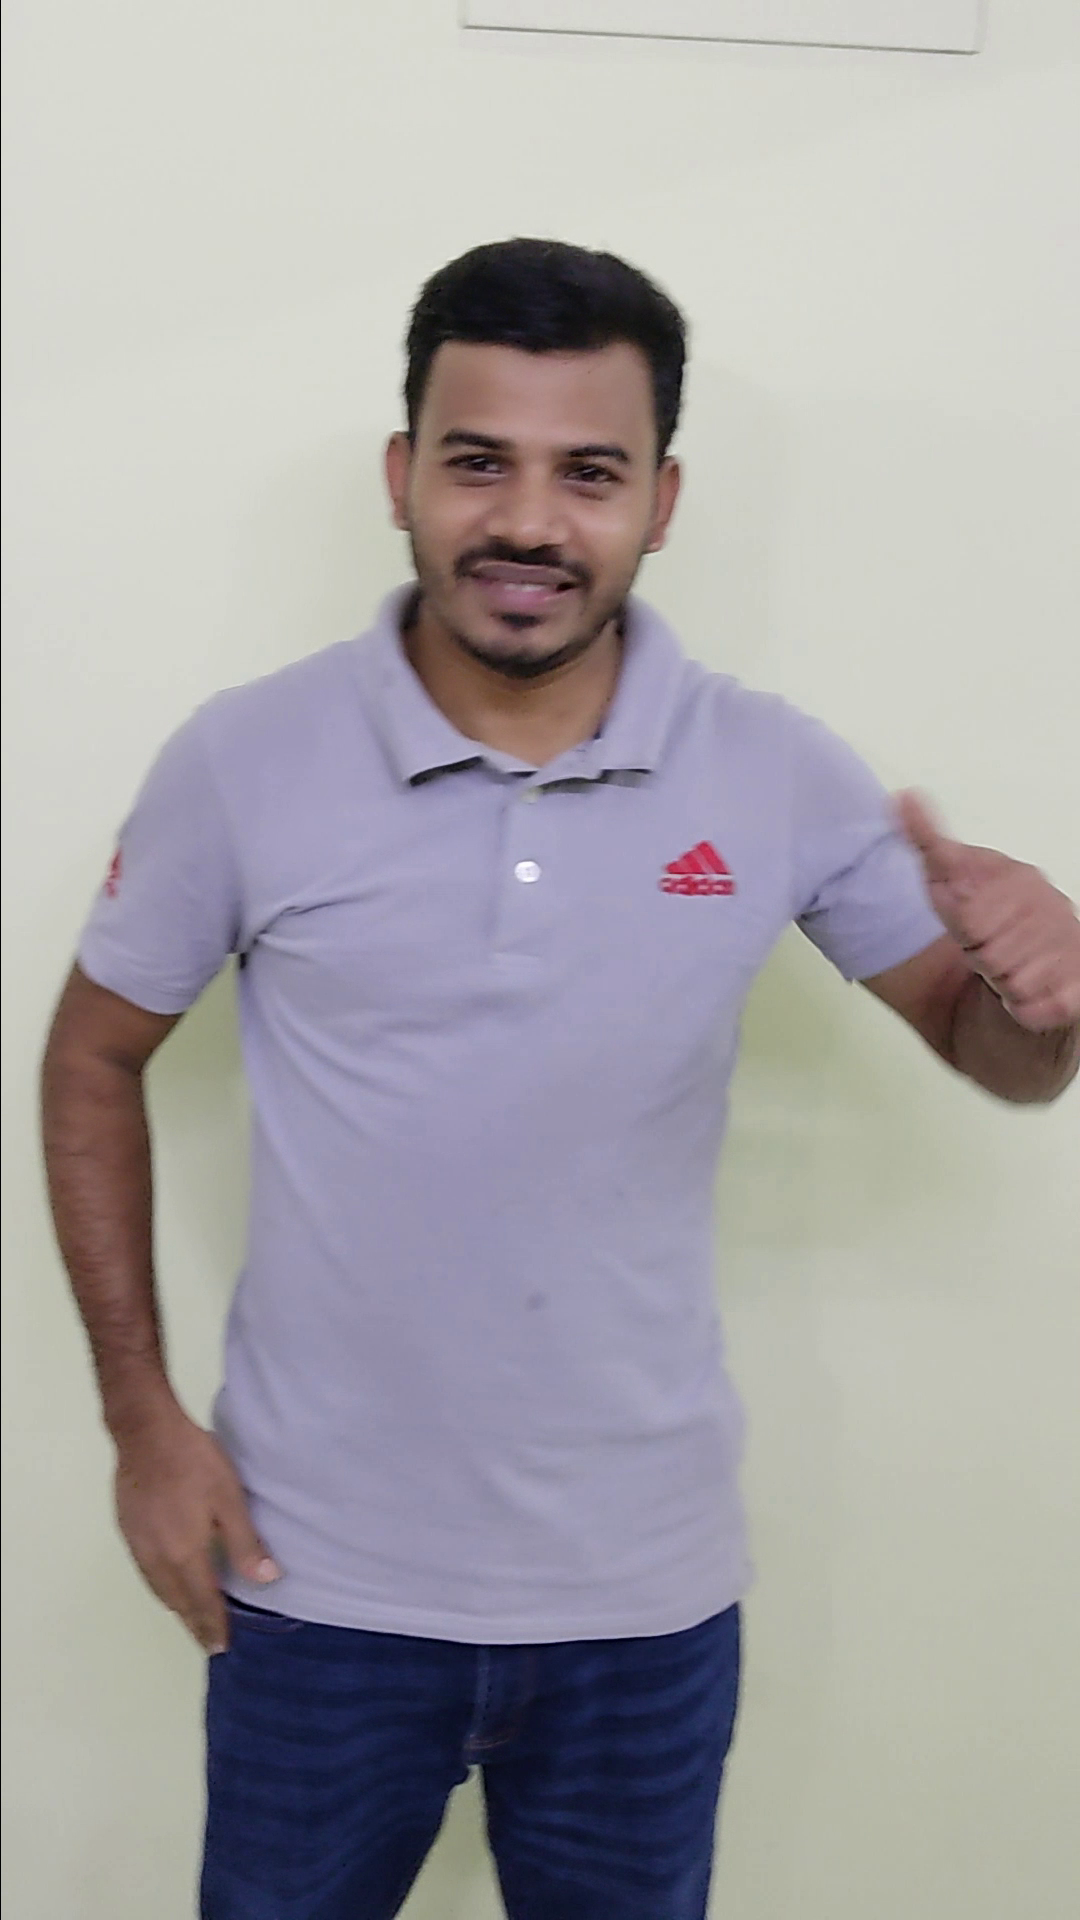Like: (884, 765, 1080, 1039)
None: (83, 1379, 302, 1683)
